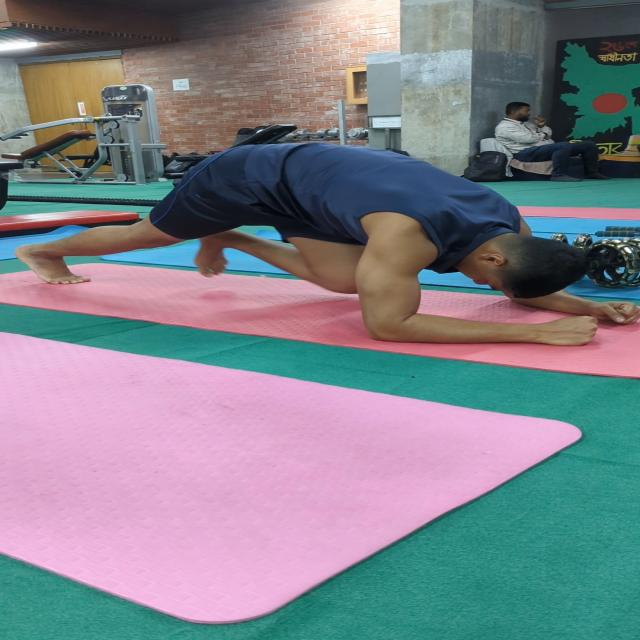Normal_MountainClimbers: (13, 110, 640, 366)
